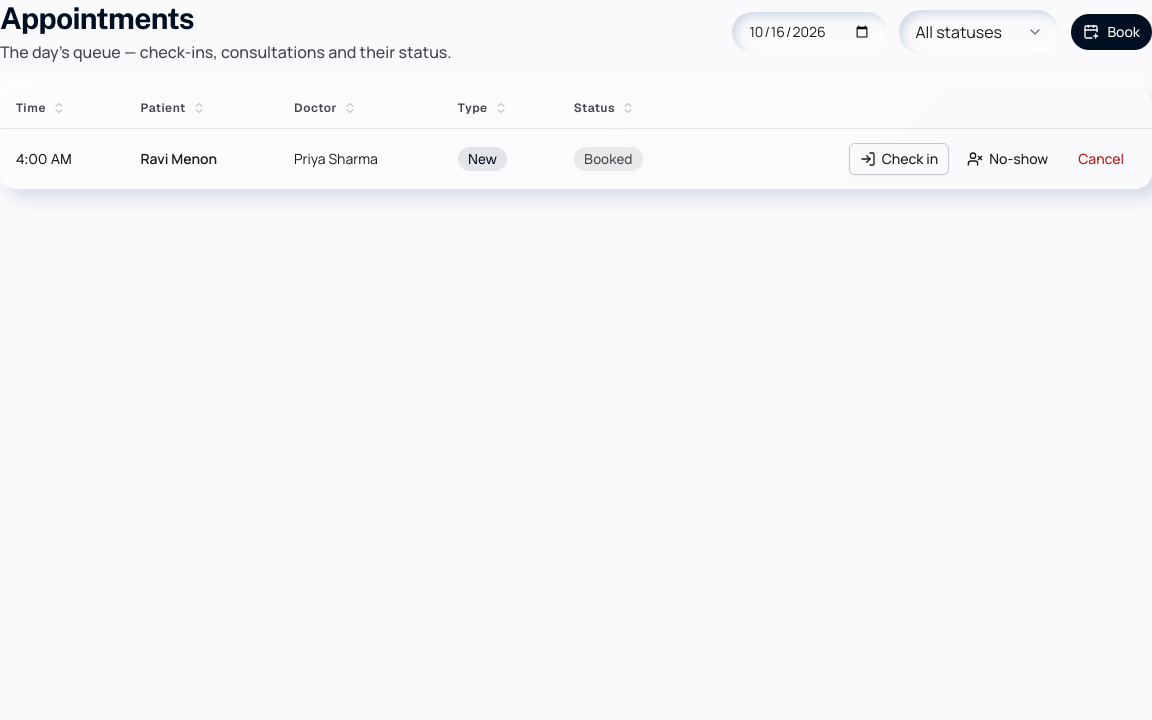
appointment lifecycle actions › cancels only after a reason is given and confirmed
Click the button with aria-label "Cancel appointment for Ravi Menon".
click(1101, 159)  # box [1066,143,1136,175]
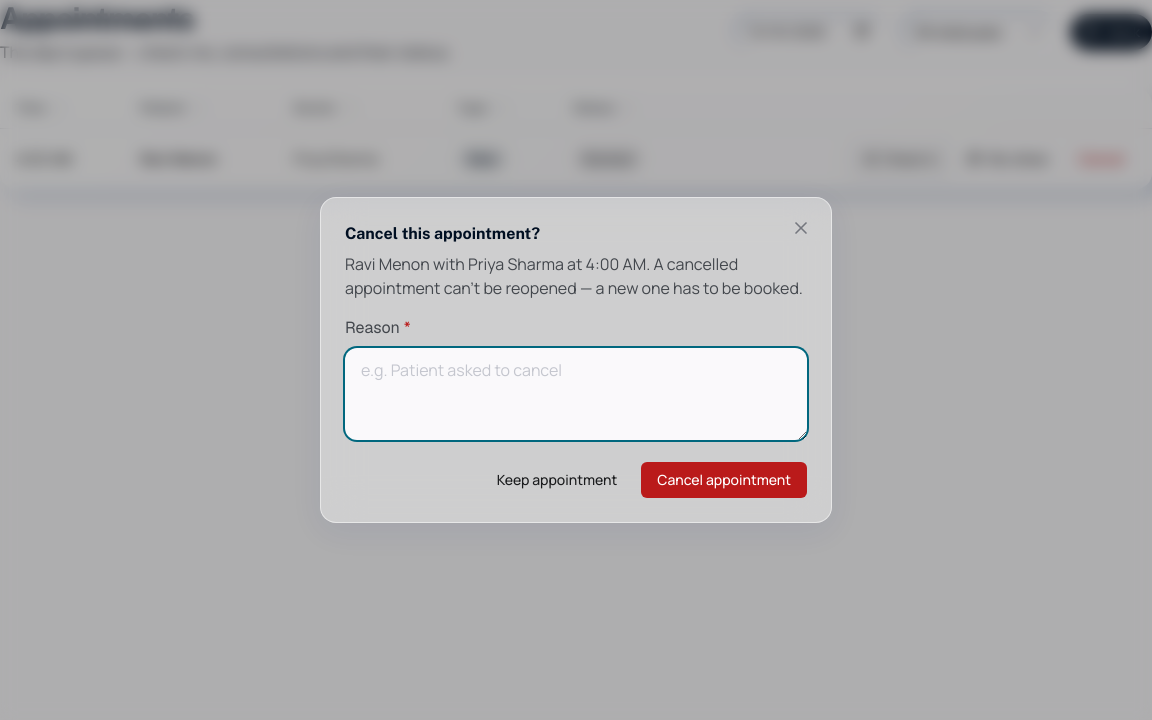
Expected: the heading "Cancel this appointment?" is shown, [345,224,540,243]
Note: Confirming without a reason is blocked before any request.
Click the button "Cancel appointment".
click(724, 480)  # box [641,462,807,498]
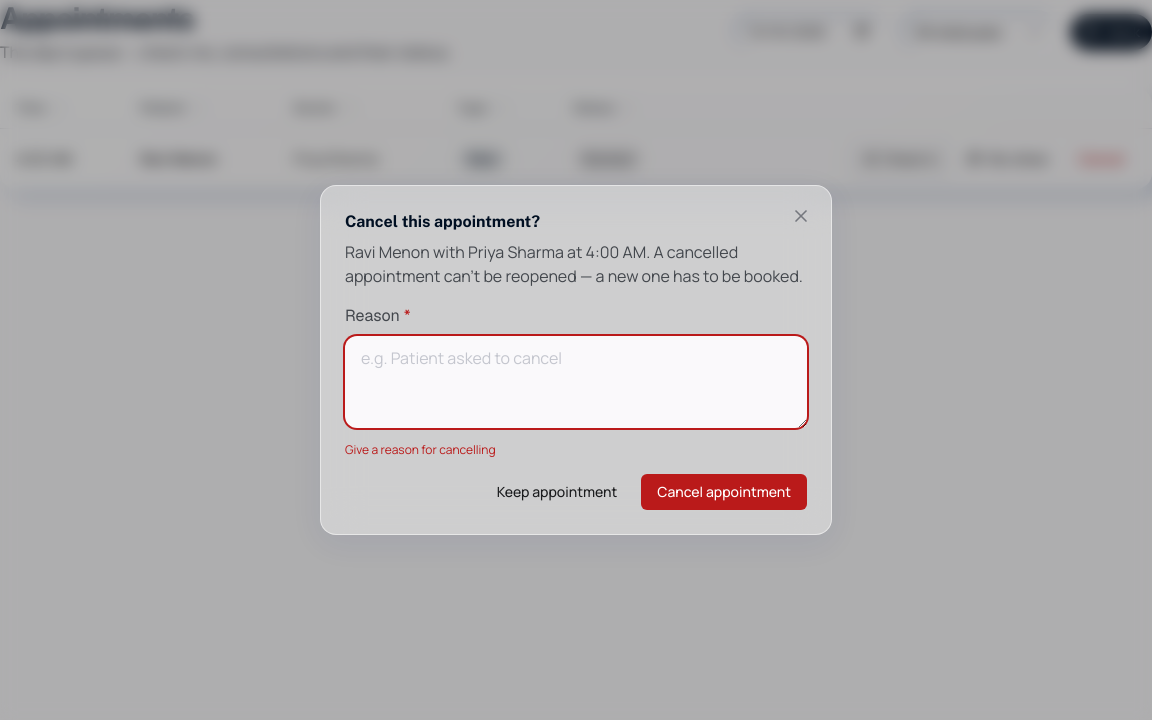
Expected: the text "Give a reason for cancelling" is shown, [345,441,496,458]
Type "  Patient asked to cancel " into the text box labelled "Reason *".
click(576, 382); type("  Patient asked to cancel ")  # box [345,336,807,428]
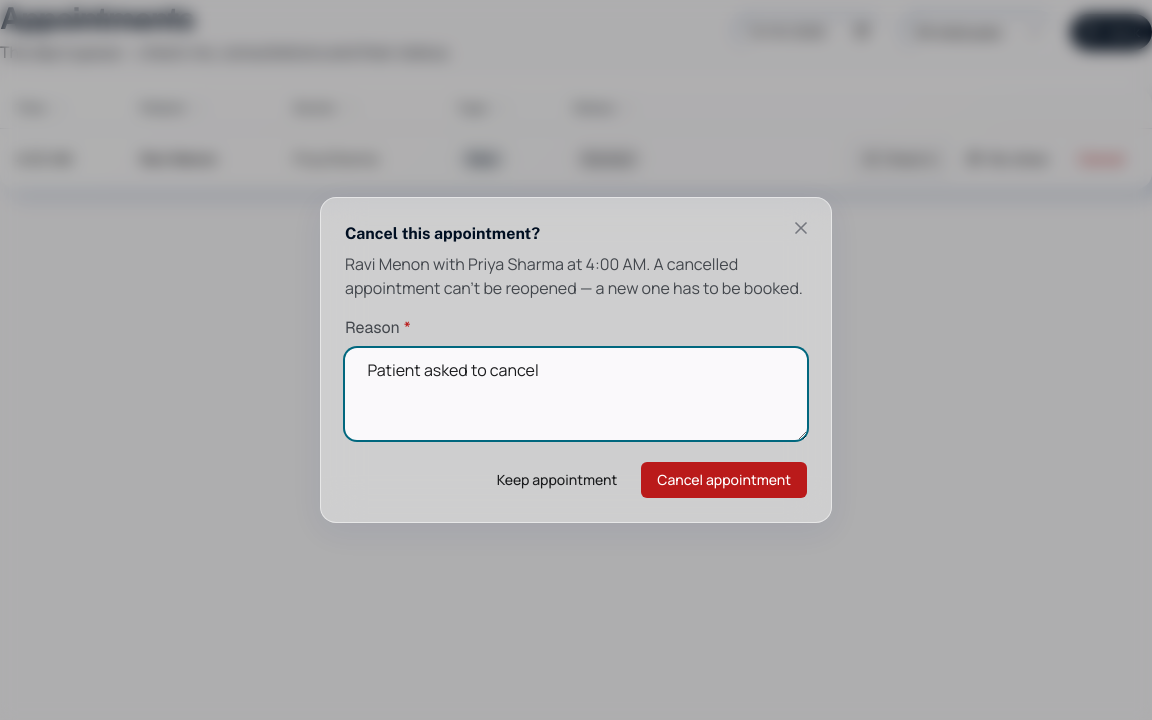
Click the button "Cancel appointment".
click(724, 480)  # box [641,462,807,498]
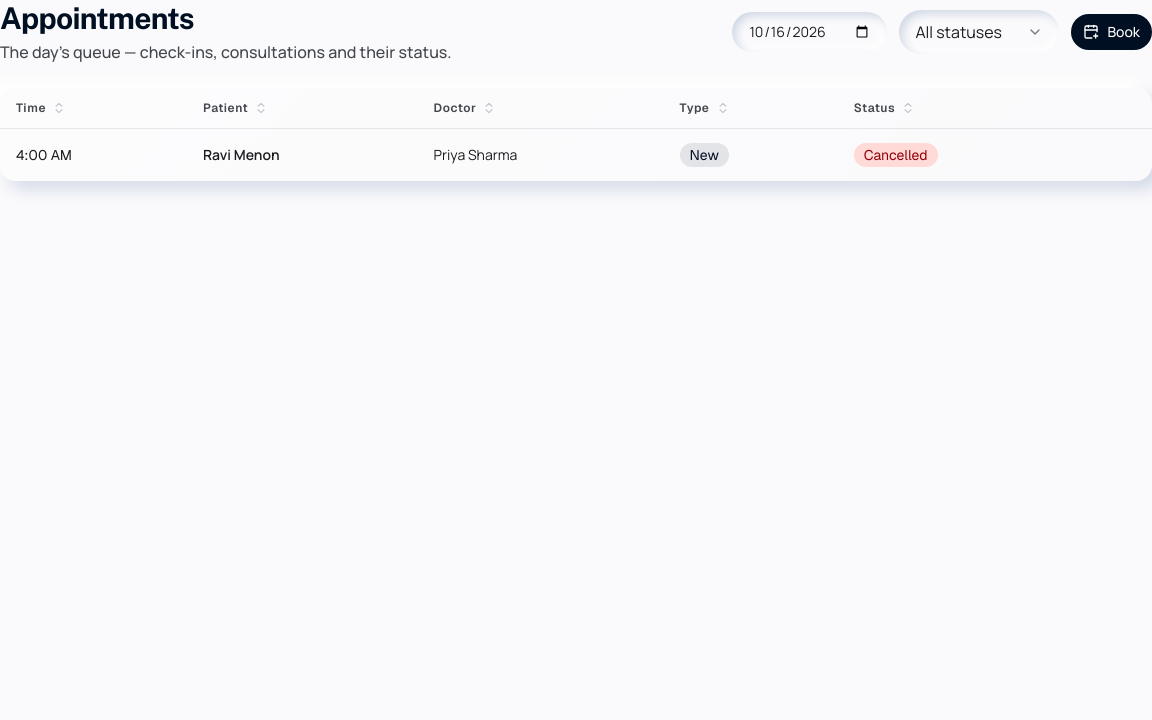
Expected: the dialog is gone
Expected: the text "Cancelled" is shown, [854,143,938,167]
